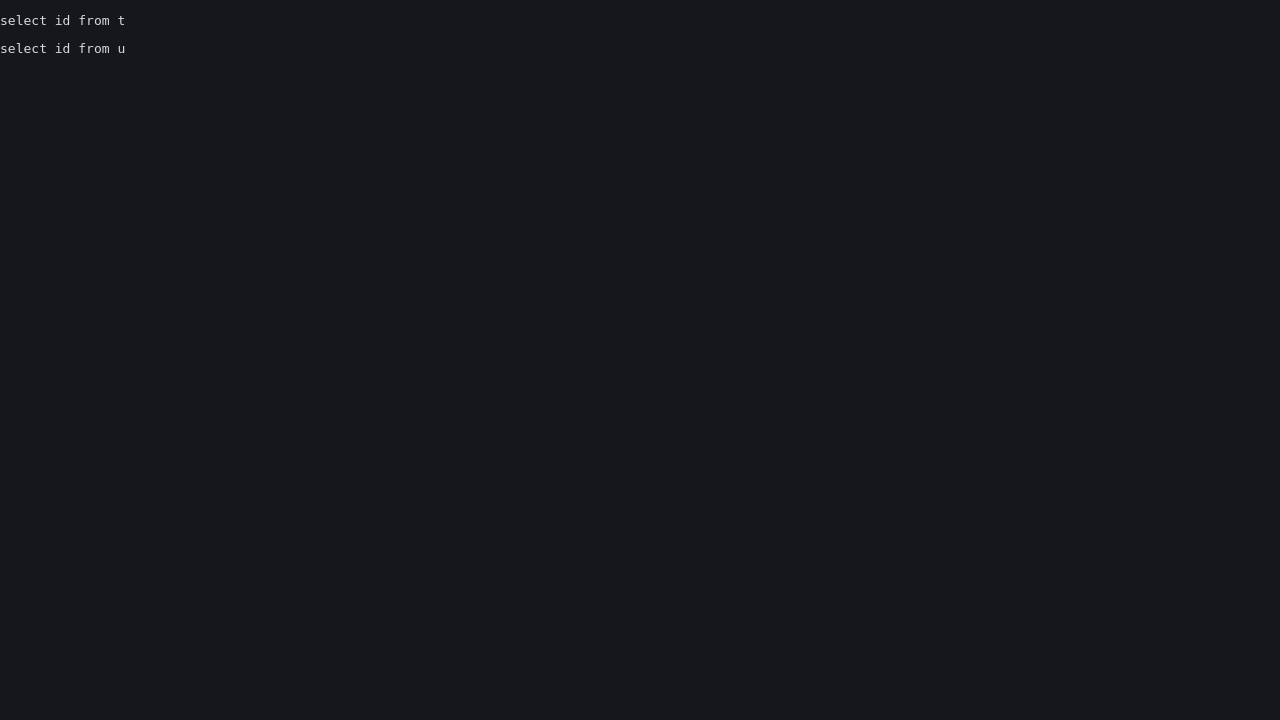
Test case: useFindReplace wired to the dialog › replaces every occurrence across every document
Press r
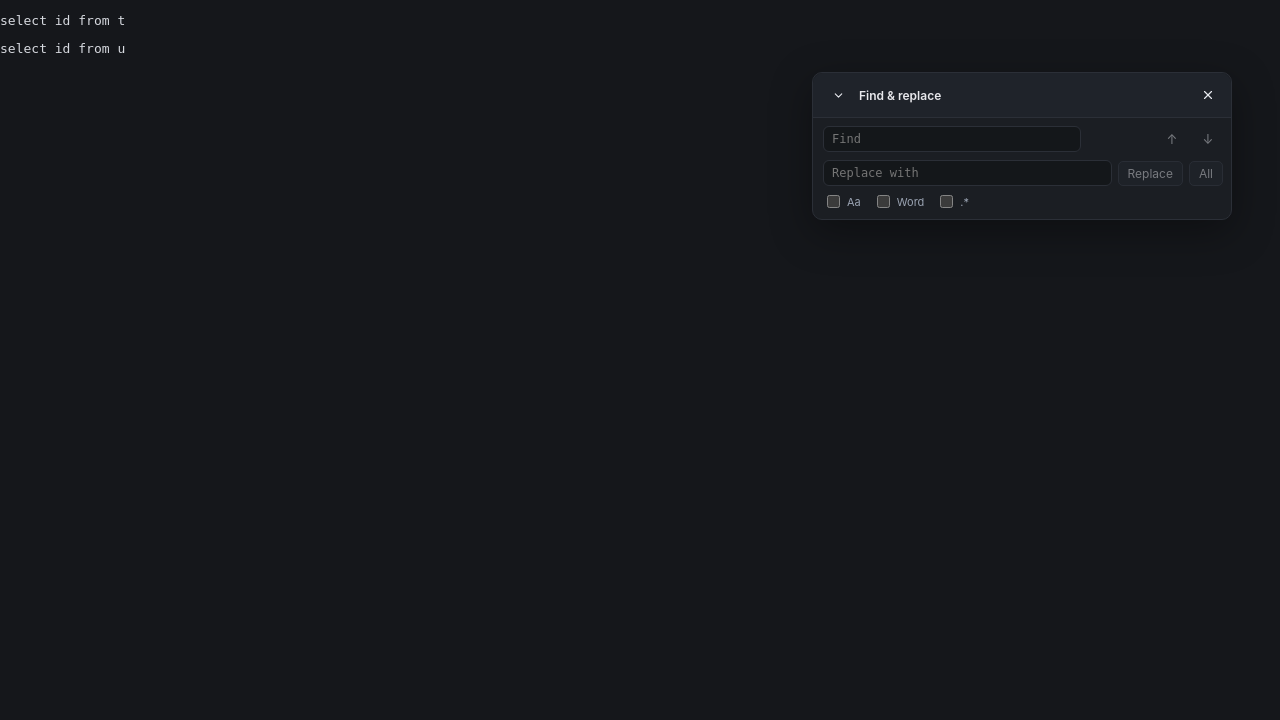
Type "select" into the field with test id "find-replace-query".
click(952, 139); type("select")  # box [823, 126, 1081, 152]
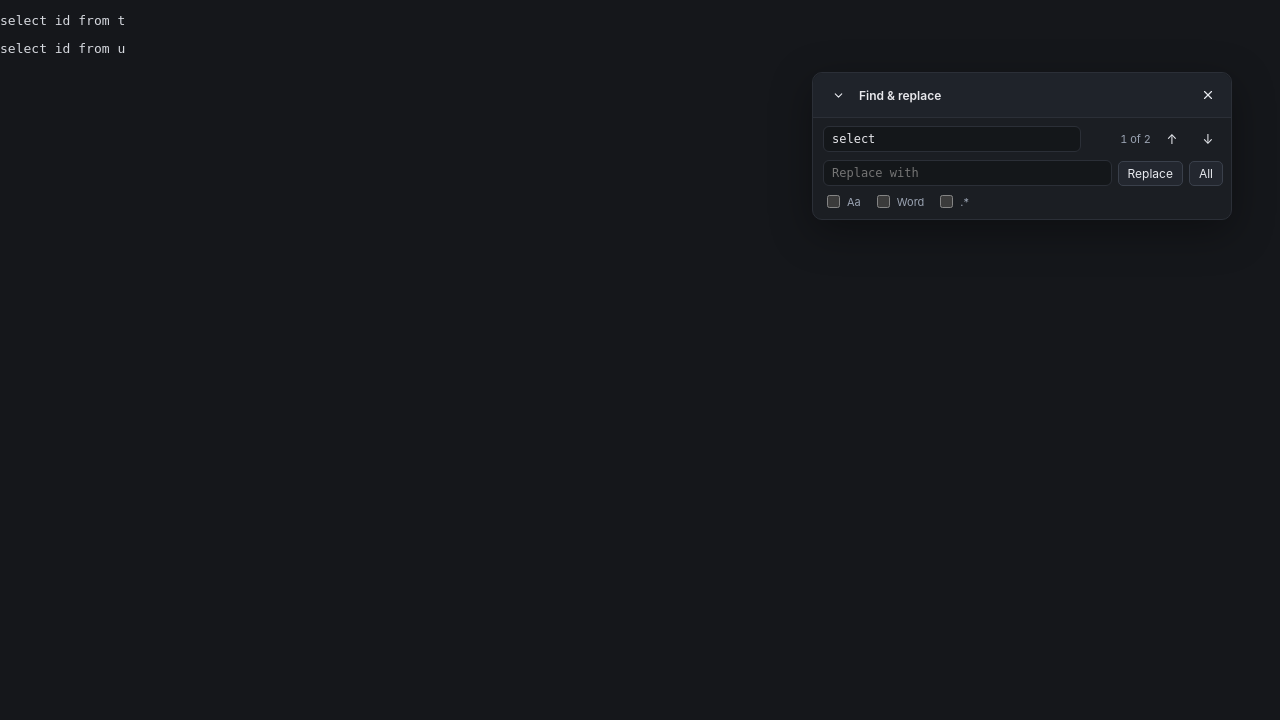
Type "SELECT" into the field with test id "find-replace-replacement".
click(967, 173); type("SELECT")  # box [823, 160, 1112, 186]
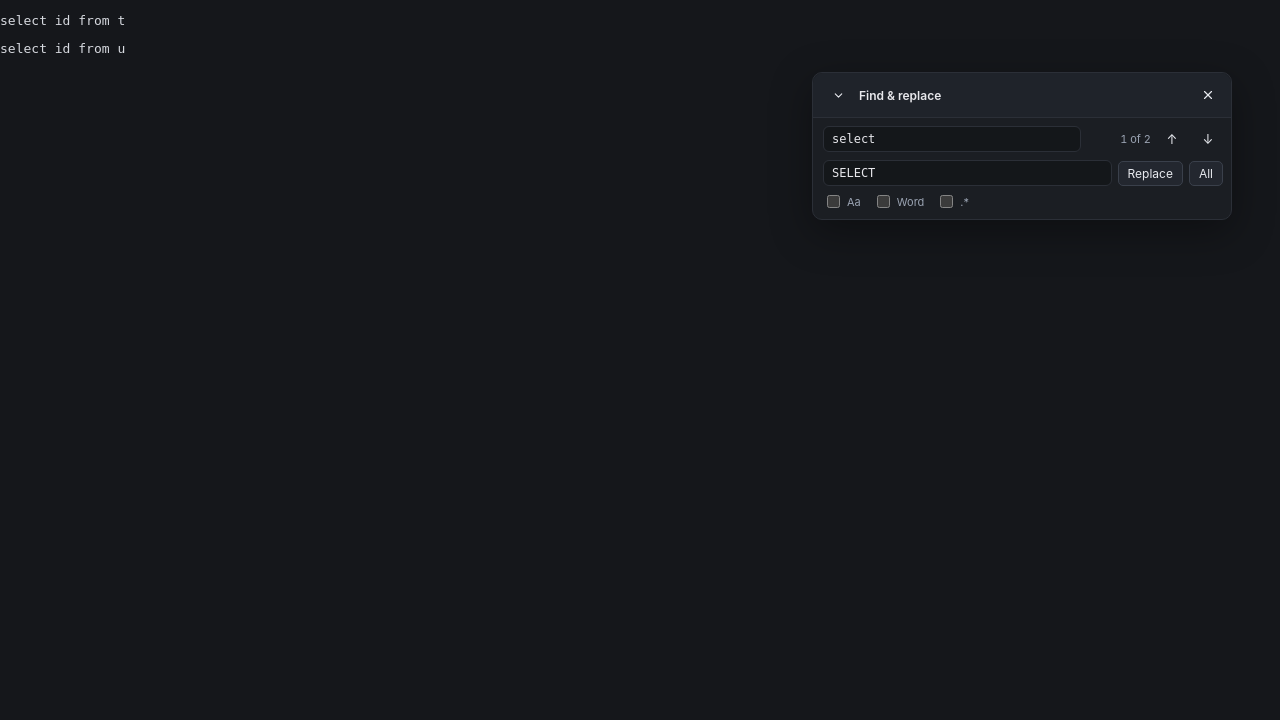
Click the button with test id "find-replace-replace-all".
click(1206, 173)  # box [1189, 160, 1223, 186]
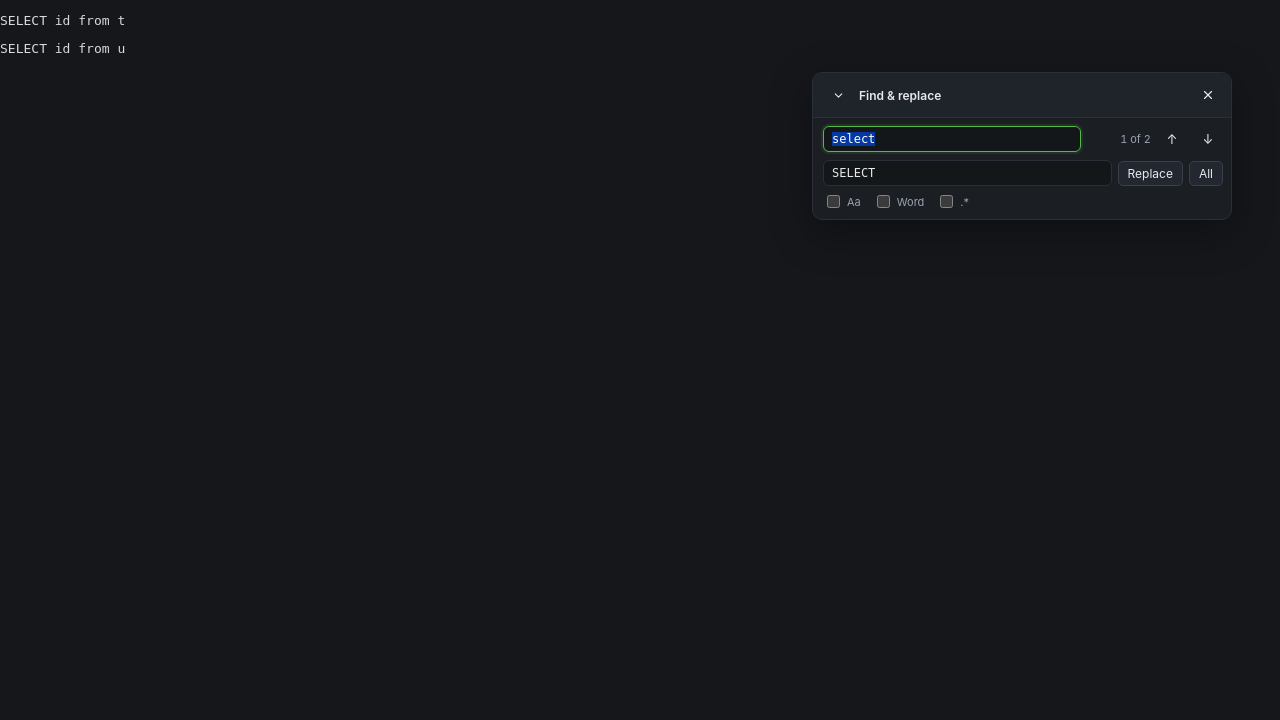
Check: the text with test id "doc-a" reads "SELECT id from t", box [0, 13, 125, 28]
Check: the text with test id "doc-b" reads "SELECT id from u", box [0, 41, 125, 56]
